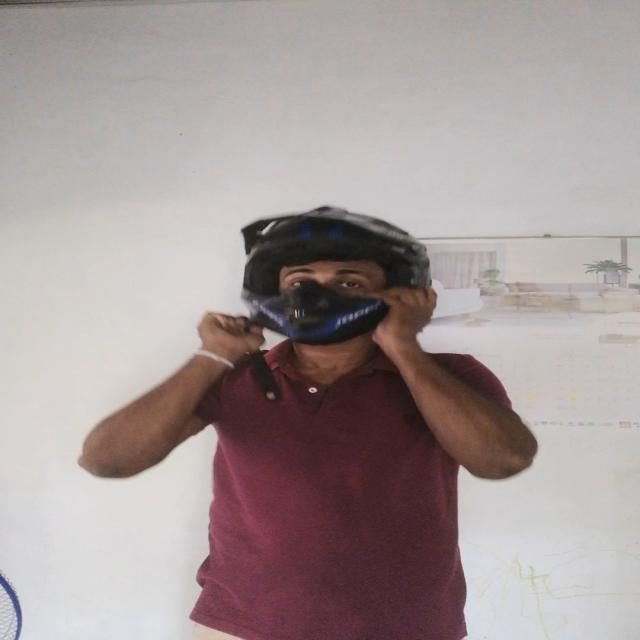Helmet_Wearer: (205, 198, 471, 379)
Person: (93, 213, 541, 640)
